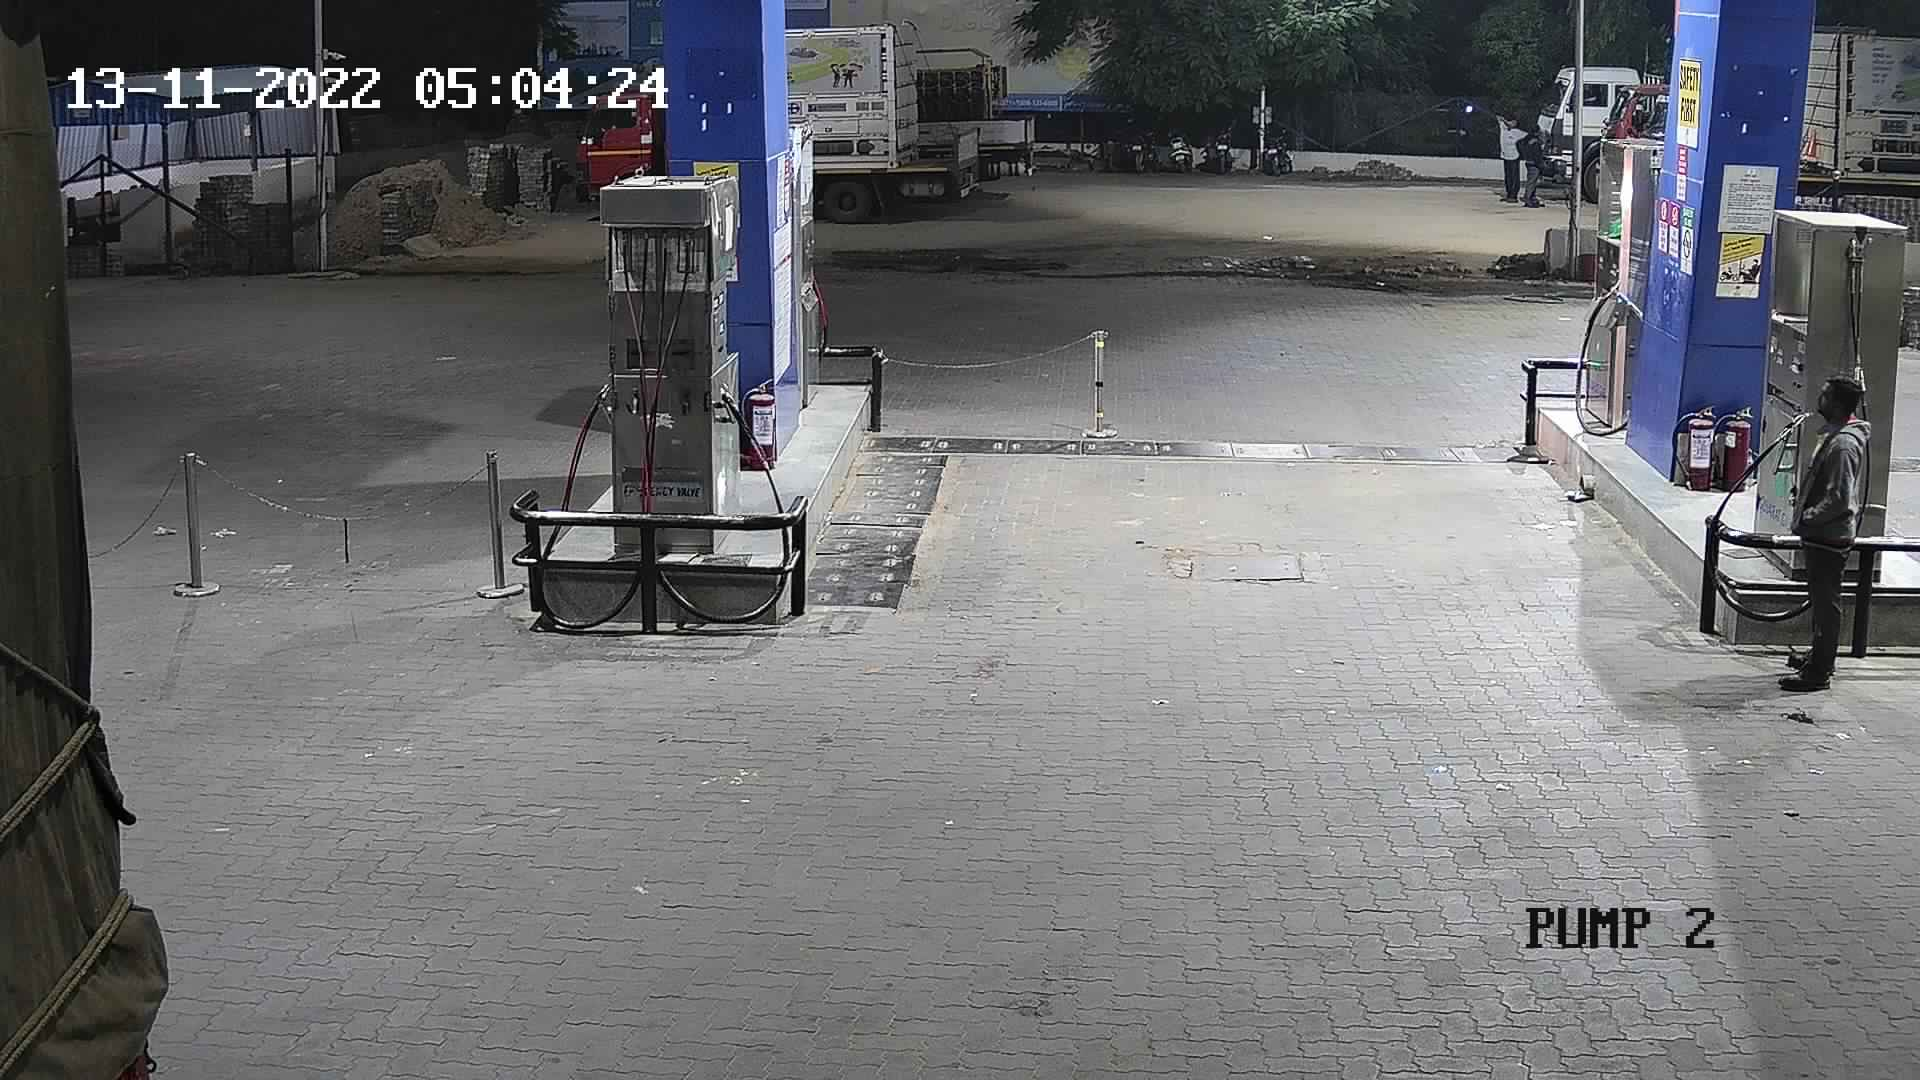Bike: (1251, 117, 1303, 177), (1203, 111, 1245, 175), (1120, 113, 1162, 175), (1159, 113, 1203, 171)
HMV: (0, 3, 199, 1076), (777, 12, 993, 231), (1776, 8, 1917, 198), (895, 34, 1044, 189), (1528, 55, 1673, 203)
Others: (1772, 367, 1876, 694)
